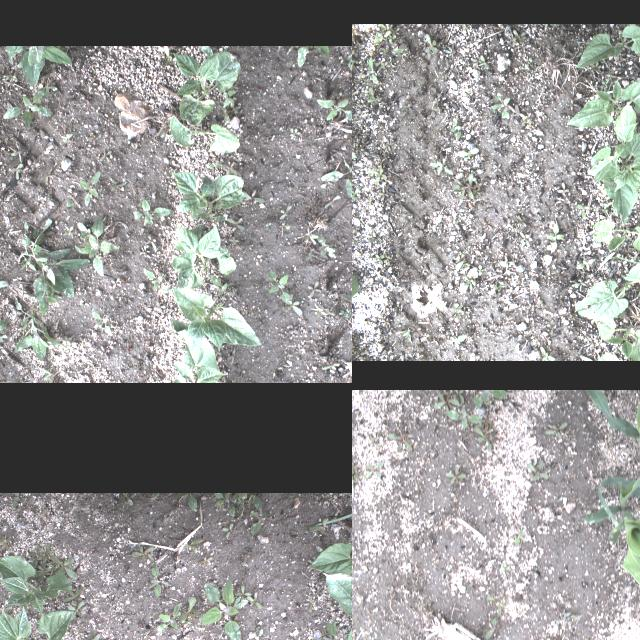crop: (585, 464, 640, 637), (586, 116, 640, 227), (172, 287, 260, 351), (171, 48, 241, 122), (0, 555, 72, 617), (574, 255, 640, 320), (168, 225, 236, 288), (565, 78, 640, 128), (172, 168, 244, 220), (170, 317, 224, 383), (167, 113, 240, 153), (574, 24, 640, 67), (307, 510, 352, 573), (0, 605, 73, 640), (322, 571, 352, 640), (596, 317, 640, 361), (612, 103, 638, 165), (592, 220, 640, 252), (596, 351, 622, 361), (352, 274, 358, 298)
weed: (16, 218, 86, 312), (10, 298, 66, 364), (1, 46, 75, 90), (72, 216, 116, 280), (200, 580, 240, 640), (1, 81, 54, 125), (264, 267, 302, 319), (434, 390, 483, 428), (322, 151, 352, 201), (132, 198, 174, 226), (298, 228, 334, 260), (274, 47, 330, 67), (316, 94, 352, 124), (78, 169, 102, 209), (140, 264, 170, 294), (156, 602, 180, 638), (208, 274, 238, 302), (247, 494, 267, 536), (148, 563, 170, 599), (450, 173, 476, 200), (51, 554, 78, 580), (90, 308, 112, 339), (472, 390, 507, 408), (212, 492, 238, 516), (471, 426, 497, 450), (580, 199, 618, 215), (220, 86, 238, 118), (386, 432, 414, 452), (544, 223, 564, 250), (528, 458, 550, 482), (543, 422, 571, 440), (603, 255, 640, 268), (106, 174, 130, 194), (490, 95, 510, 119), (596, 52, 612, 82), (341, 289, 352, 331), (179, 596, 195, 624), (366, 166, 388, 186), (224, 214, 246, 233), (419, 32, 438, 54), (140, 233, 156, 259), (446, 466, 466, 486), (317, 618, 335, 640), (7, 142, 26, 162), (60, 189, 78, 209), (486, 597, 504, 617), (244, 187, 266, 203), (430, 159, 452, 175), (311, 304, 335, 318), (131, 546, 155, 560), (365, 460, 383, 478), (320, 360, 340, 376), (84, 130, 104, 146), (394, 326, 414, 342), (373, 30, 393, 46), (62, 586, 82, 602), (234, 584, 250, 604), (365, 56, 377, 82), (556, 610, 582, 622), (352, 457, 362, 488), (0, 72, 22, 86), (149, 300, 171, 314), (306, 281, 322, 299), (106, 278, 130, 290), (337, 51, 352, 70), (342, 354, 352, 382), (60, 219, 74, 239), (156, 46, 170, 66), (575, 258, 595, 272), (324, 193, 341, 209), (207, 160, 229, 172), (352, 235, 376, 246), (284, 126, 300, 142), (96, 147, 112, 163), (10, 166, 26, 182), (96, 346, 112, 362), (484, 620, 498, 638), (42, 166, 54, 186), (276, 205, 292, 219), (450, 305, 464, 321), (370, 252, 386, 266), (478, 54, 492, 70), (456, 148, 478, 158), (450, 117, 460, 139), (276, 221, 294, 233), (225, 352, 243, 364), (454, 253, 466, 271), (446, 336, 466, 346), (59, 130, 73, 144), (511, 30, 525, 44), (518, 111, 532, 125), (540, 346, 554, 360), (584, 336, 598, 350), (0, 315, 6, 347), (498, 256, 514, 268), (379, 45, 403, 53), (512, 528, 524, 544), (518, 232, 530, 246), (83, 633, 107, 640), (576, 204, 586, 220), (256, 318, 268, 330), (463, 276, 473, 290), (512, 36, 526, 46), (558, 182, 568, 196), (573, 282, 587, 292), (588, 62, 602, 72), (370, 434, 380, 448), (416, 602, 430, 612), (516, 215, 526, 228), (366, 95, 379, 105), (378, 23, 392, 32), (467, 275, 477, 287), (443, 48, 455, 58), (378, 188, 388, 200), (598, 78, 610, 88), (566, 98, 576, 110), (365, 86, 375, 98), (519, 581, 529, 593), (591, 60, 599, 74), (471, 186, 482, 196), (226, 237, 238, 246), (472, 458, 484, 467), (261, 218, 271, 228), (420, 332, 430, 342), (491, 162, 501, 172), (436, 69, 446, 79), (359, 139, 369, 149), (507, 33, 517, 43), (472, 179, 482, 189), (501, 561, 511, 571), (382, 254, 390, 266), (389, 28, 401, 36), (352, 187, 359, 200), (353, 150, 362, 160), (491, 284, 505, 290), (476, 266, 484, 276), (384, 140, 392, 150), (380, 61, 390, 69), (364, 198, 374, 206), (386, 323, 394, 333), (524, 57, 532, 67), (388, 33, 397, 41), (381, 318, 389, 327), (544, 24, 556, 30), (431, 338, 439, 346), (360, 130, 368, 138), (458, 264, 468, 270), (406, 148, 416, 154), (472, 59, 482, 65), (352, 227, 356, 240), (361, 78, 369, 84), (352, 158, 356, 170), (352, 149, 356, 158), (633, 254, 637, 262), (378, 158, 382, 165), (352, 60, 354, 73), (560, 244, 564, 246)
